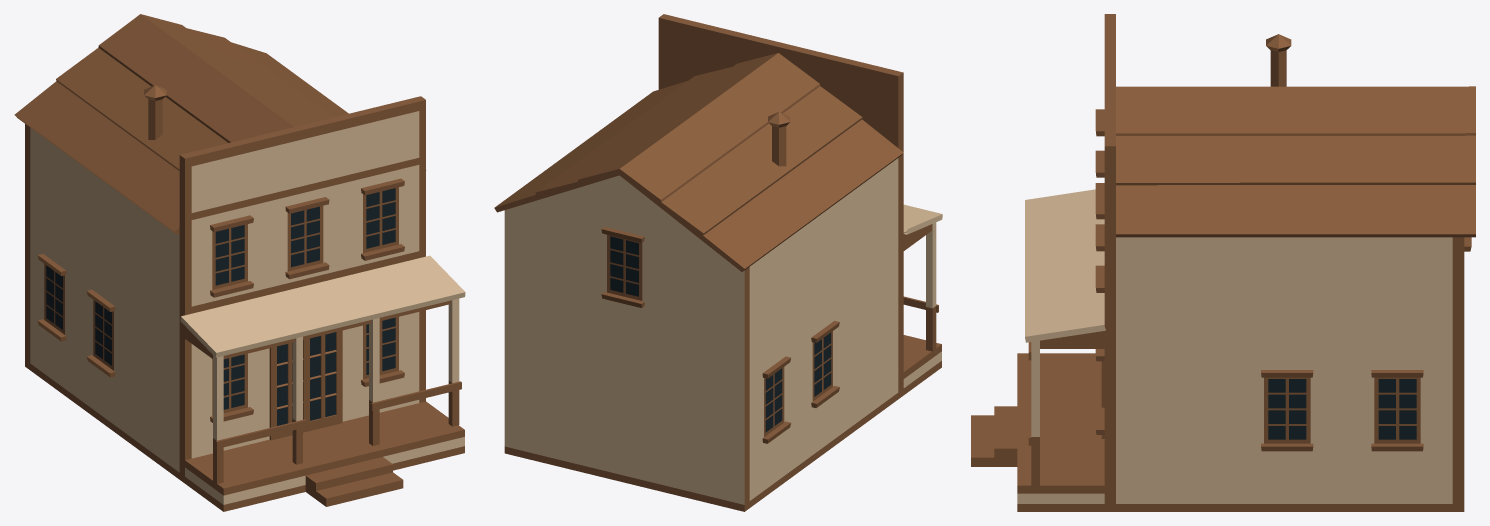
Rendered from bank-western.glb.
3 views of the same model, side by side, from view 1: azimuth 30°, elevation 25°; view 2: azimuth 150°, elevation 25°; view 3: azimuth 270°, elevation 25° (orthographic). The views are drawn at different scales.
Visible parts, largest first — view 1: bank-western; view 2: bank-western; view 3: bank-western.
Part boxes in pixels (x1=…): bank-western: x1=14, y1=14, x2=465, y2=511; bank-western: x1=494, y1=14, x2=942, y2=511; bank-western: x1=971, y1=14, x2=1475, y2=511.
Bounding box in the file's own units: 5.65 × 7.07 × 8.7.
1 material, 1 textured.
